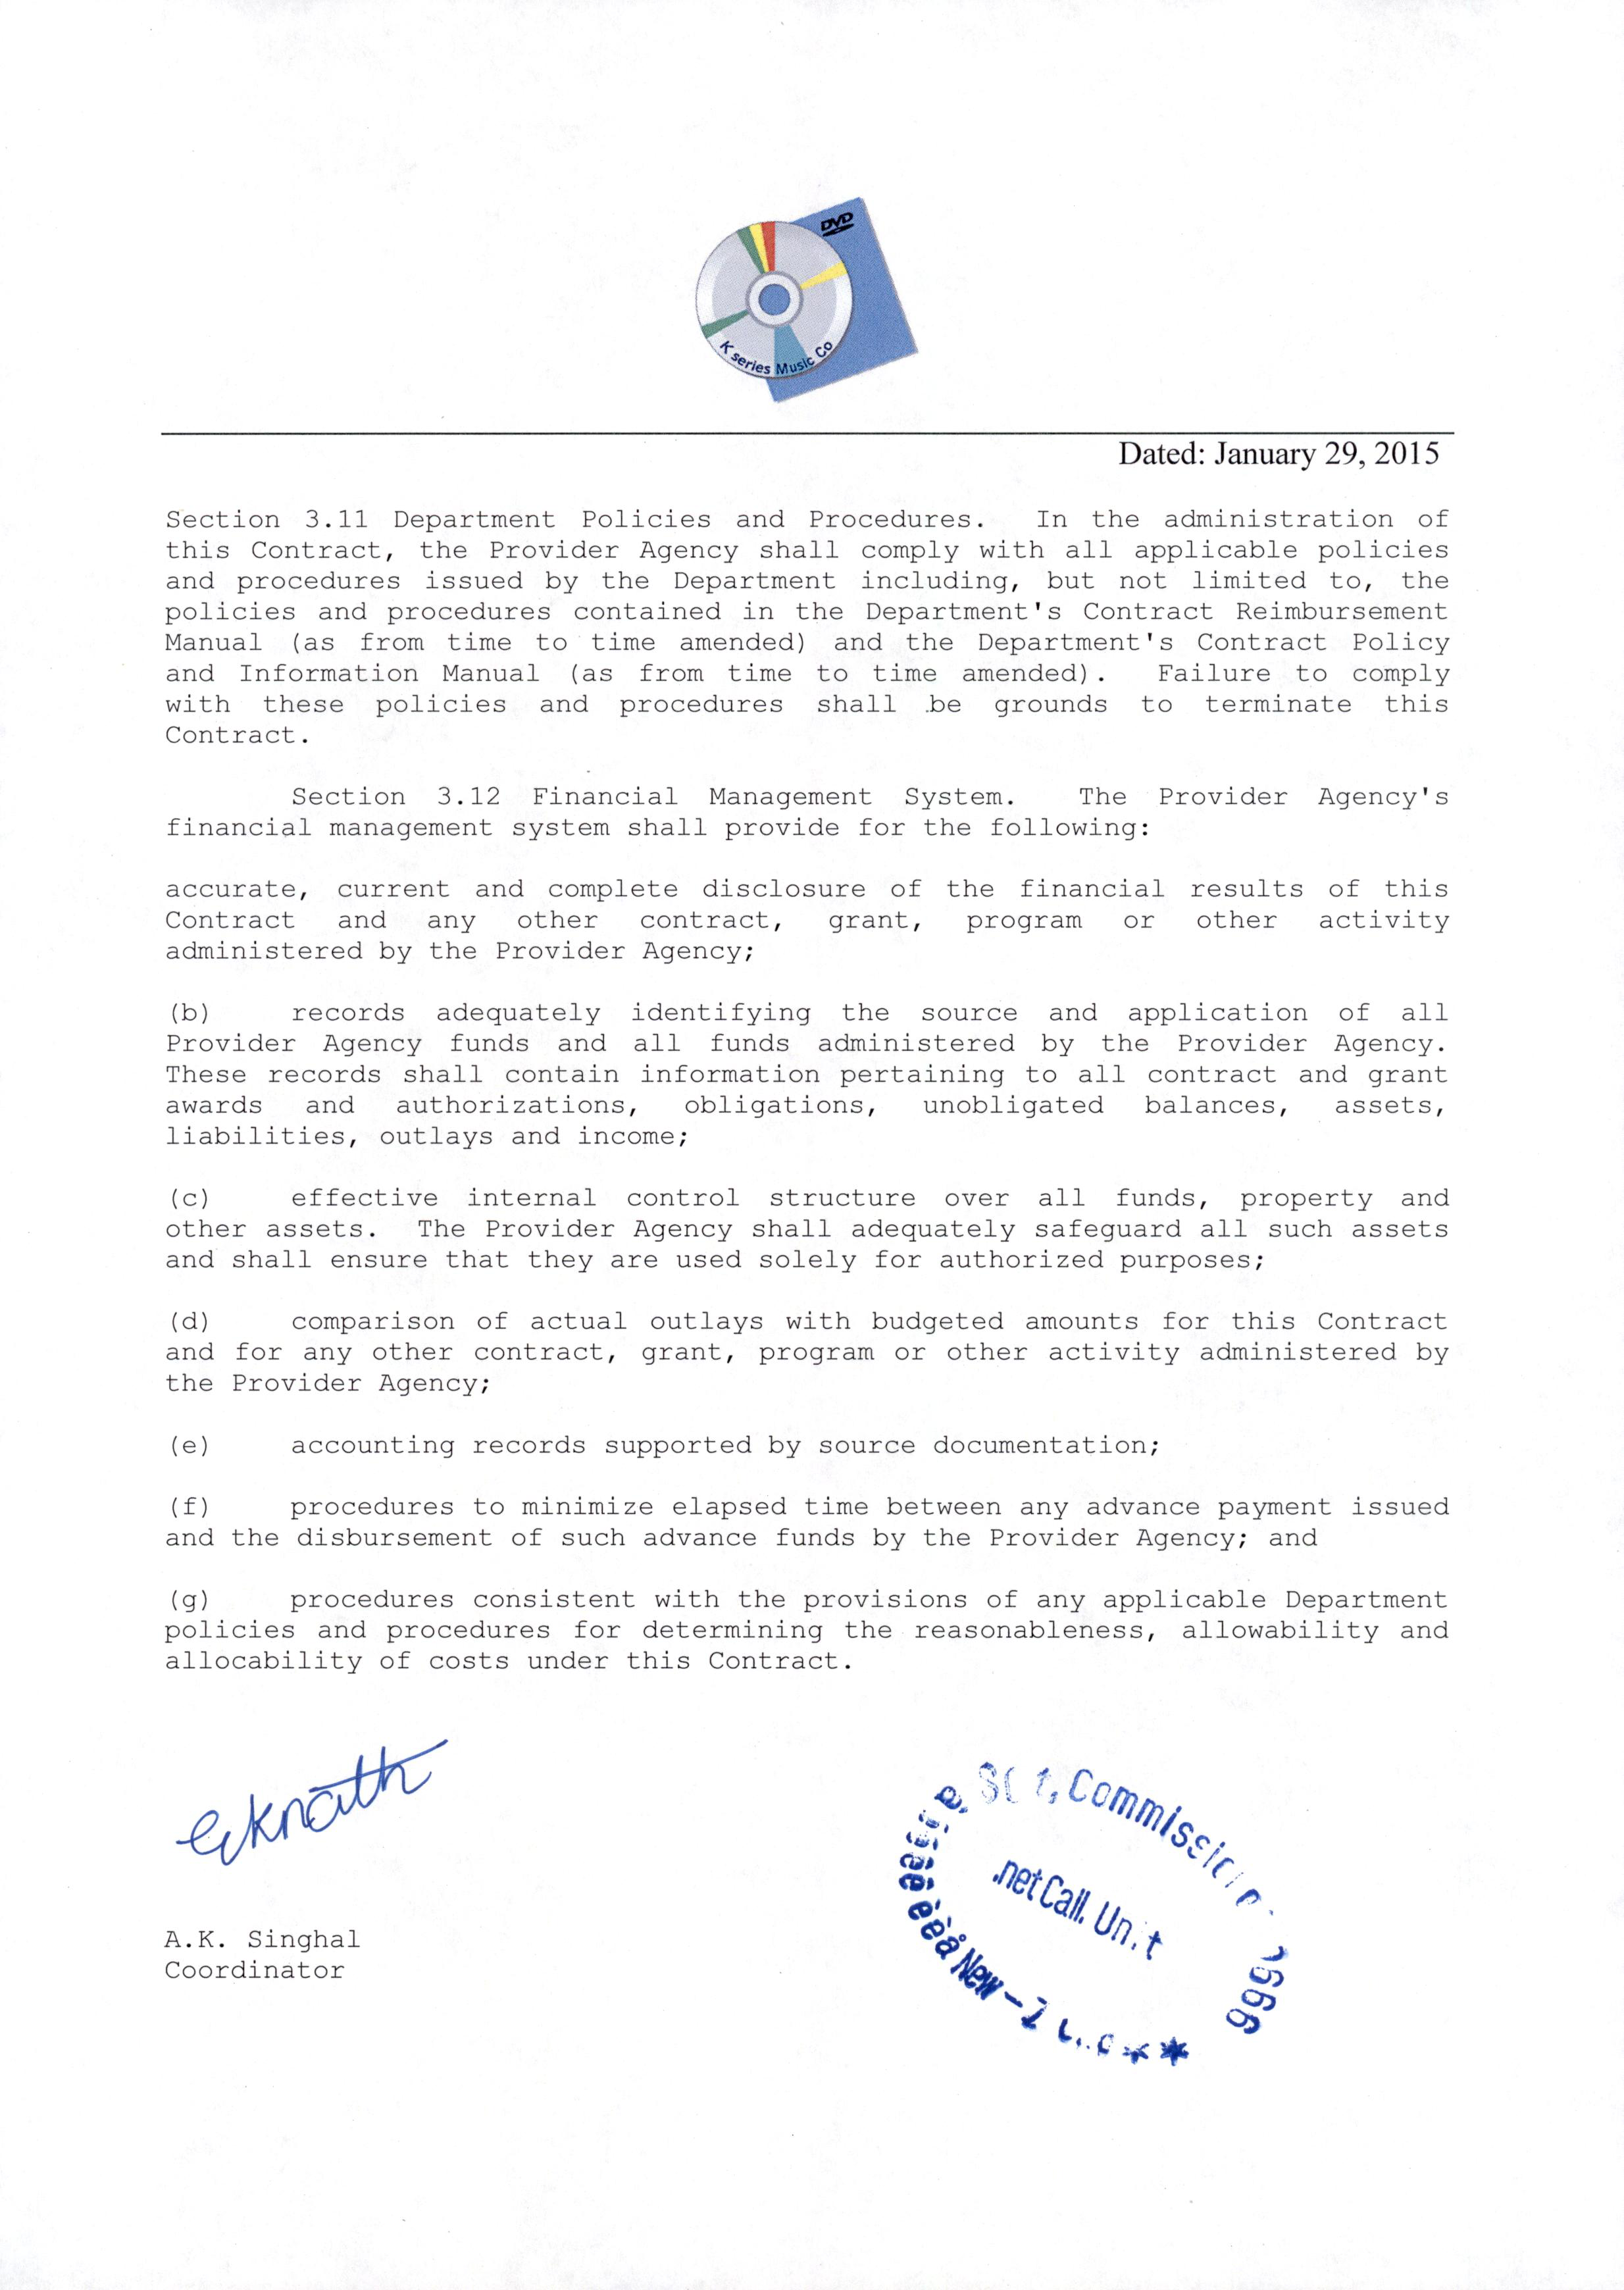Signature: (170, 1731, 459, 1873)
